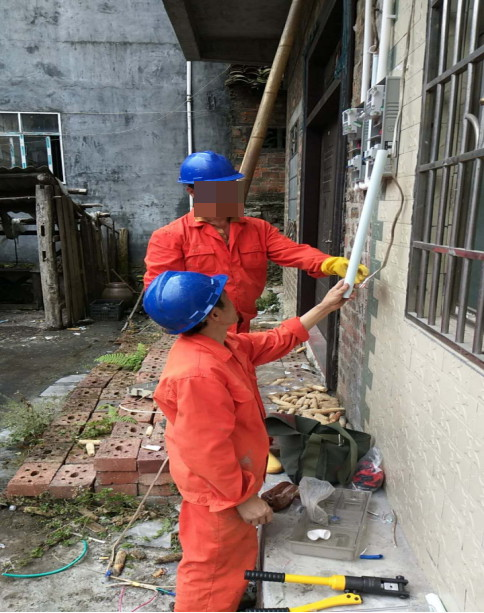halt: (142, 274, 238, 336), (177, 150, 244, 217)
hand: (234, 494, 274, 526), (323, 280, 355, 311)
inear: (185, 182, 201, 201)
longglove: (322, 256, 369, 284)
noear: (204, 306, 226, 325)
person: (142, 272, 351, 613), (140, 151, 368, 346)
wrongtop: (283, 300, 333, 334)
ydownsuit: (167, 505, 267, 613)
yupsuit: (152, 317, 315, 515), (138, 214, 367, 333)
